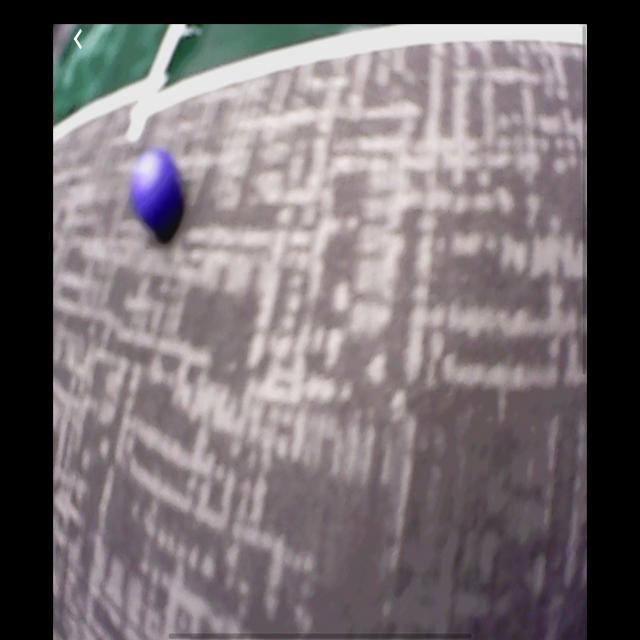ball: (132, 145, 184, 242)
